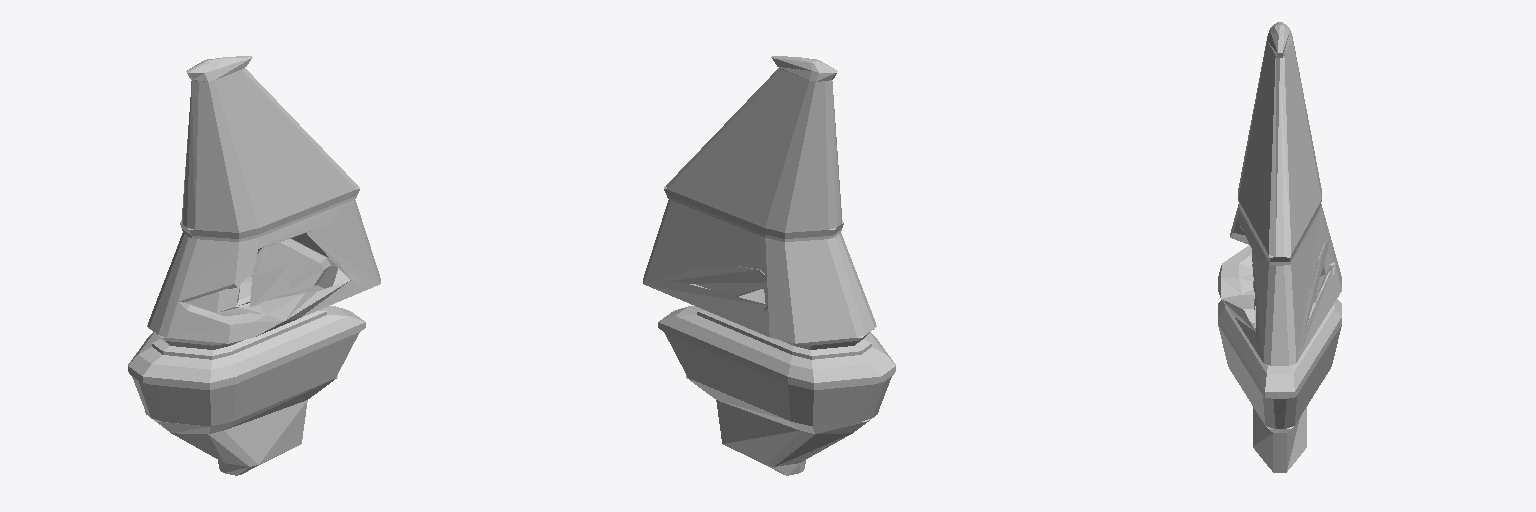
Rendered from dropship.obj.
3 views of the same model, side by side, from view 1: azimuth 30°, elevation 25°; view 2: azimuth 150°, elevation 25°; view 3: azimuth 270°, elevation 25° (orthographic).
Visible parts, largest first — view 1: Cube; view 2: Cube; view 3: Cube.
Part boxes in pixels (x1,y1,x2,y2): Cube: (128, 56, 380, 475); Cube: (643, 56, 895, 475); Cube: (1218, 22, 1341, 472).
Bounding box in the file's own units: 25.35 × 41.56 × 11.3.